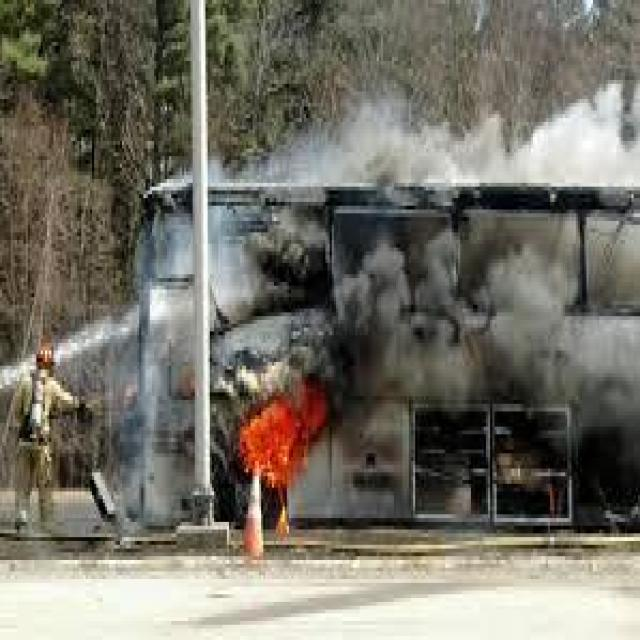fire: (229, 368, 343, 488)
smoke: (217, 95, 630, 388)
